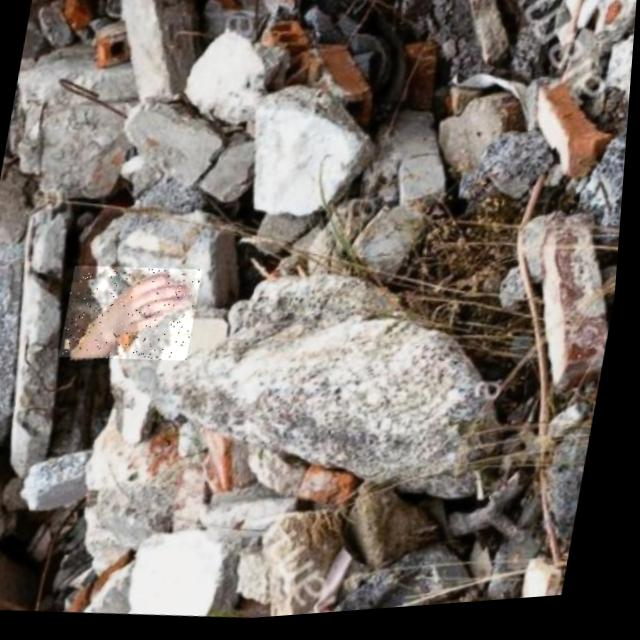Person in Rubble: (64, 258, 208, 370)
